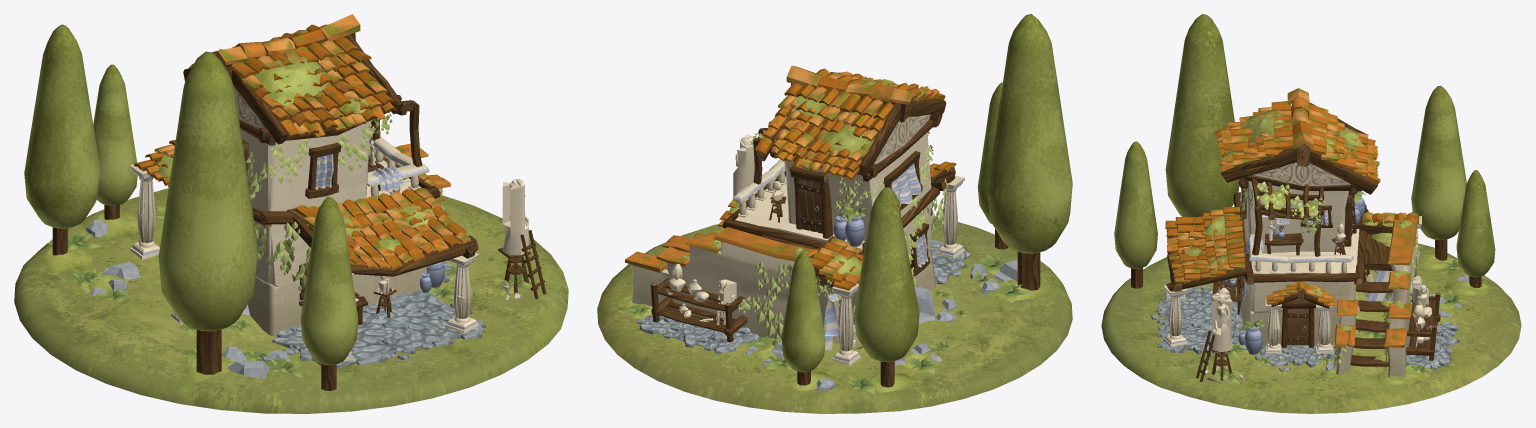
The model's file is dae_villages__greek_sculptor_house.glb.
The picture shows the model from 3 angles, left to right: view 1: azimuth 30°, elevation 25°; view 2: azimuth 150°, elevation 25°; view 3: azimuth 270°, elevation 25°; orthographic projection. The views are drawn at different scales.
Visible parts, largest first — view 1: ambientLight4; view 2: ambientLight4; view 3: ambientLight4.
Part boxes in pixels (x1,y1,x2,y2): ambientLight4: (14, 14, 568, 413); ambientLight4: (597, 14, 1072, 413); ambientLight4: (1101, 14, 1521, 413).
Bounding box in the file's own units: 3.01 × 2 × 3.01.
Materials: 3 (3 with a texture image).
